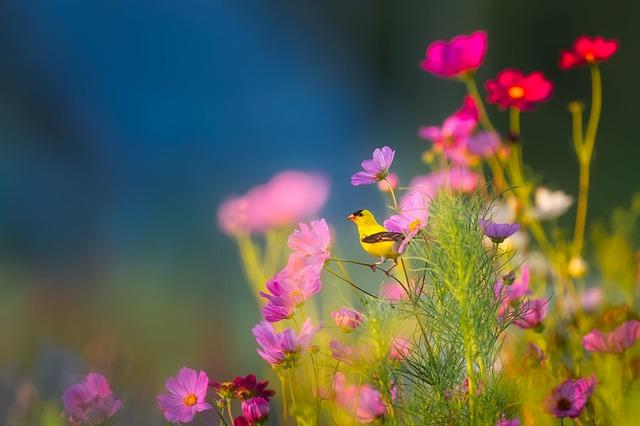Non_Gorille: (81, 53, 627, 419)
